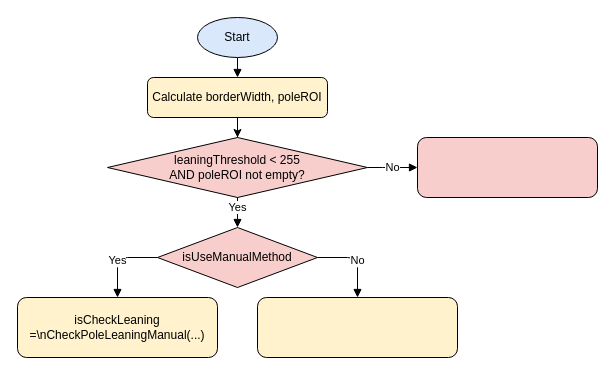
Some shapes in this 615 by 375 pixel diagram are drawn without their labels. Each missing label, with the centre of its shape:
isCheckLeaning =\nCheckPoleLeaningAuto(...): point (357, 327)
leftx = leftIdx + poleROI.x; rightx = rightIdx + poleROI.x;: point (507, 167)
